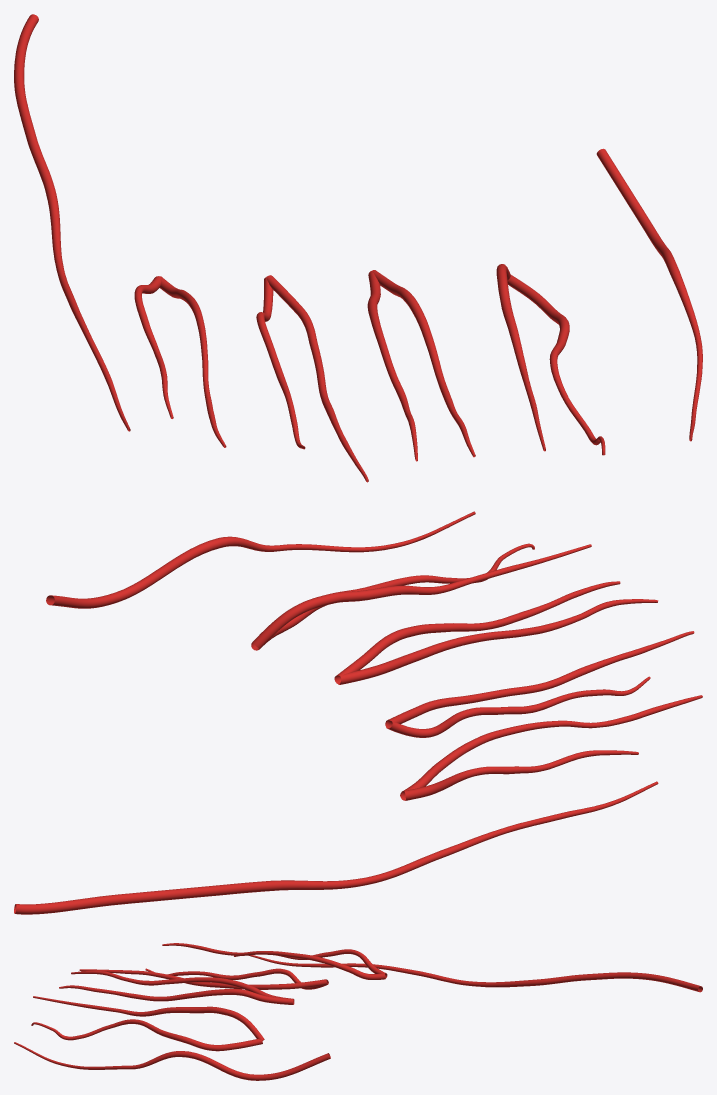
Rendered from circulatorio-plantar-digital-veins-r.glb.
3 renders of one model, top to bottom at view 1: azimuth 30°, elevation 25°; view 2: azimuth 150°, elevation 25°; view 3: azimuth 270°, elevation 25°, orthographic. The views are drawn at different scales.
Visible parts, largest first — view 1: Plantar digital veins.r; view 2: Plantar digital veins.r; view 3: Plantar digital veins.r.
Part boxes in pixels (x1,y1,x2,y2): Plantar digital veins.r: (14, 14, 702, 482); Plantar digital veins.r: (14, 511, 702, 914); Plantar digital veins.r: (14, 943, 702, 1080).
Bounding box in the file's own units: 0.0829 × 0.016 × 0.1479.
